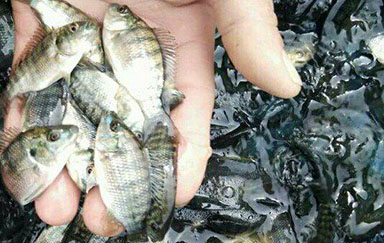fish: (24, 125, 77, 174), (93, 115, 137, 165), (100, 4, 149, 47), (99, 101, 151, 135), (49, 22, 90, 63), (145, 191, 176, 240), (22, 98, 63, 127), (64, 148, 97, 184)
